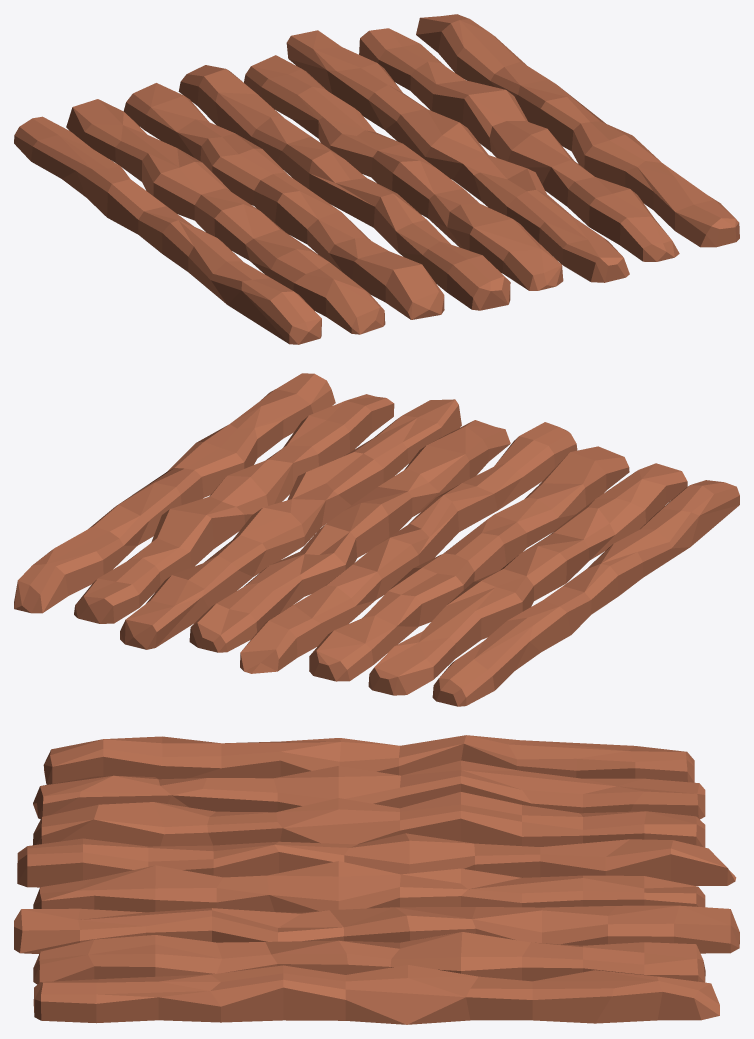
Rendered from Field_02.fbx.
3 renders of one model, top to bottom at view 1: azimuth 30°, elevation 25°; view 2: azimuth 150°, elevation 25°; view 3: azimuth 270°, elevation 25°, orthographic. The views are drawn at different scales.
Visible parts, largest first — view 1: Field_02.005, Field_02.001, Field_02.002, Field_02.003, Field_02.004, Field_02.007, Field_02.006, Field_02; view 2: Field_02.005, Field_02.001, Field_02.002, Field_02.003, Field_02.004, Field_02.006, Field_02.007, Field_02; view 3: Field_02.007, Field_02.005, Field_02.002, Field_02.004, Field_02.003, Field_02.006, Field_02.001, Field_02.
Part boxes in pixels (left/top/right/bottom): Field_02.005: left=286, top=30, right=629, bottom=282; Field_02.001: left=66, top=99, right=385, bottom=334; Field_02.002: left=123, top=83, right=444, bottom=319; Field_02.003: left=178, top=65, right=510, bottom=310; Field_02.004: left=244, top=55, right=563, bottom=290; Field_02.007: left=416, top=14, right=739, bottom=247; Field_02.006: left=359, top=28, right=679, bottom=261; Field_02: left=14, top=116, right=321, bottom=344; Field_02.005: left=120, top=399, right=461, bottom=649; Field_02.001: left=368, top=463, right=687, bottom=695; Field_02.002: left=309, top=446, right=629, bottom=681; Field_02.003: left=240, top=422, right=577, bottom=673; Field_02.004: left=189, top=420, right=510, bottom=652; Field_02.006: left=74, top=394, right=394, bottom=623; Field_02.007: left=14, top=373, right=335, bottom=613; Field_02: left=432, top=480, right=739, bottom=706; Field_02.007: left=33, top=965, right=719, bottom=1024; Field_02.005: left=14, top=905, right=739, bottom=953; Field_02.002: left=33, top=792, right=705, bottom=847; Field_02.004: left=33, top=861, right=705, bottom=912; Field_02.003: left=17, top=833, right=736, bottom=887; Field_02.006: left=33, top=932, right=705, bottom=984; Field_02.001: left=33, top=760, right=705, bottom=819; Field_02: left=43, top=735, right=694, bottom=784.
Size of the model in its own units: 918 by 65.43 by 1080.
